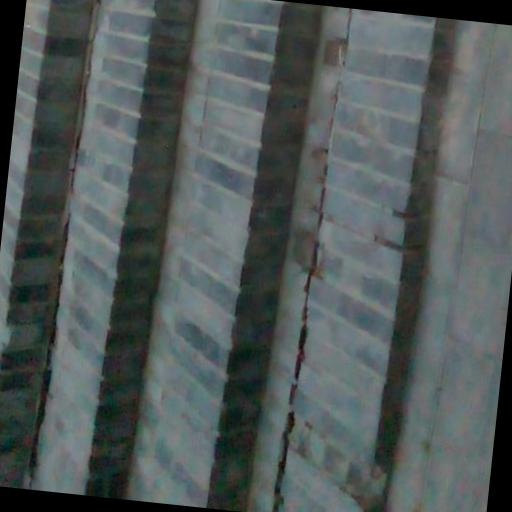stairs: (0, 0, 452, 511), (33, 0, 197, 498), (0, 0, 95, 488)
